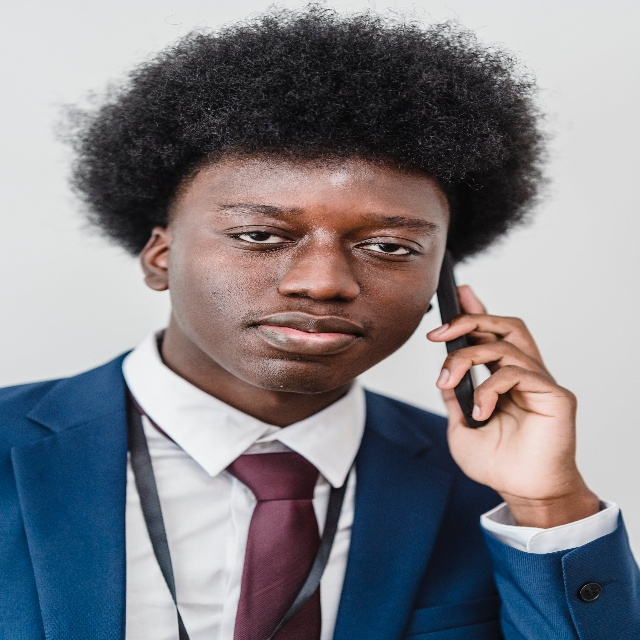Sin_guantes: (426, 284, 580, 502)
